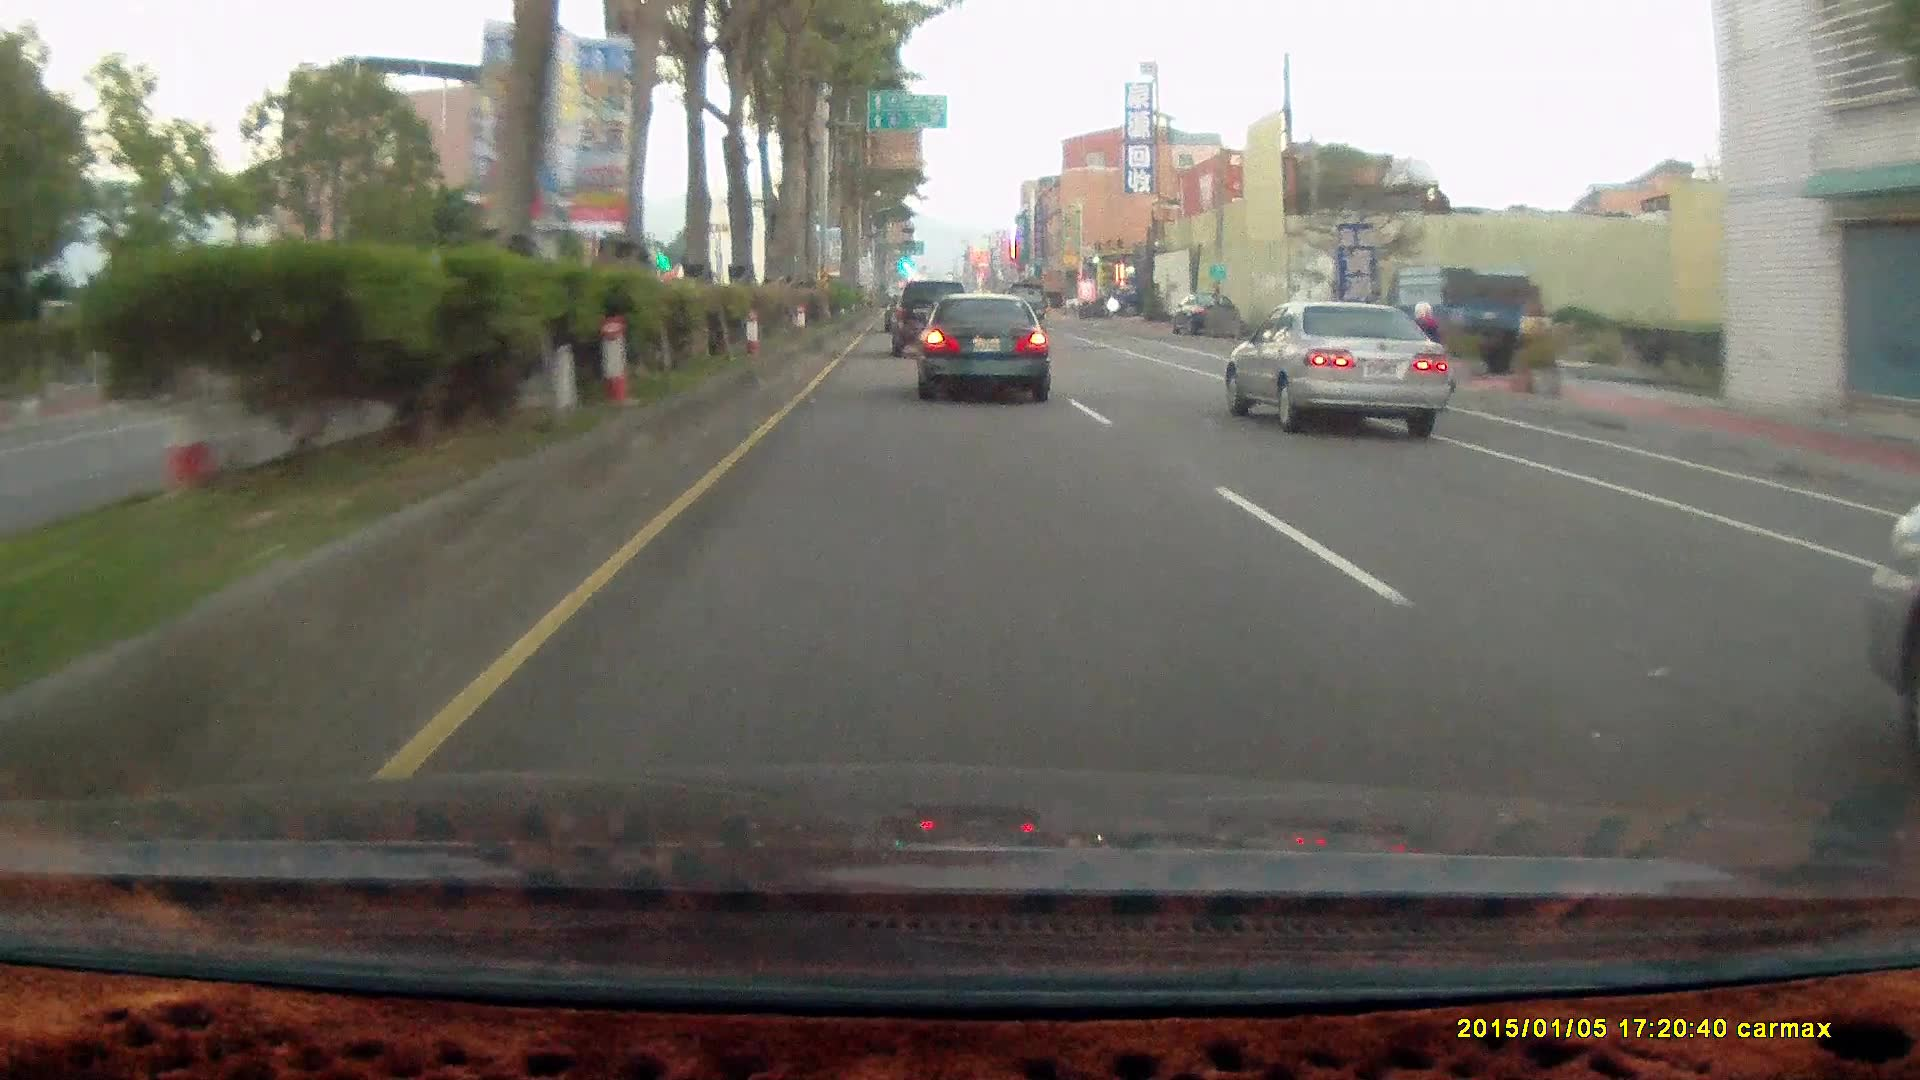rider: (1388, 301, 1451, 414), (1399, 293, 1453, 411)
vehicle: (1231, 302, 1459, 442), (1224, 298, 1451, 437), (1389, 267, 1535, 374), (1388, 265, 1535, 372), (911, 294, 1049, 404), (919, 297, 1054, 403), (888, 281, 970, 359), (1171, 295, 1246, 343), (1103, 281, 1169, 319), (1000, 280, 1047, 329)
